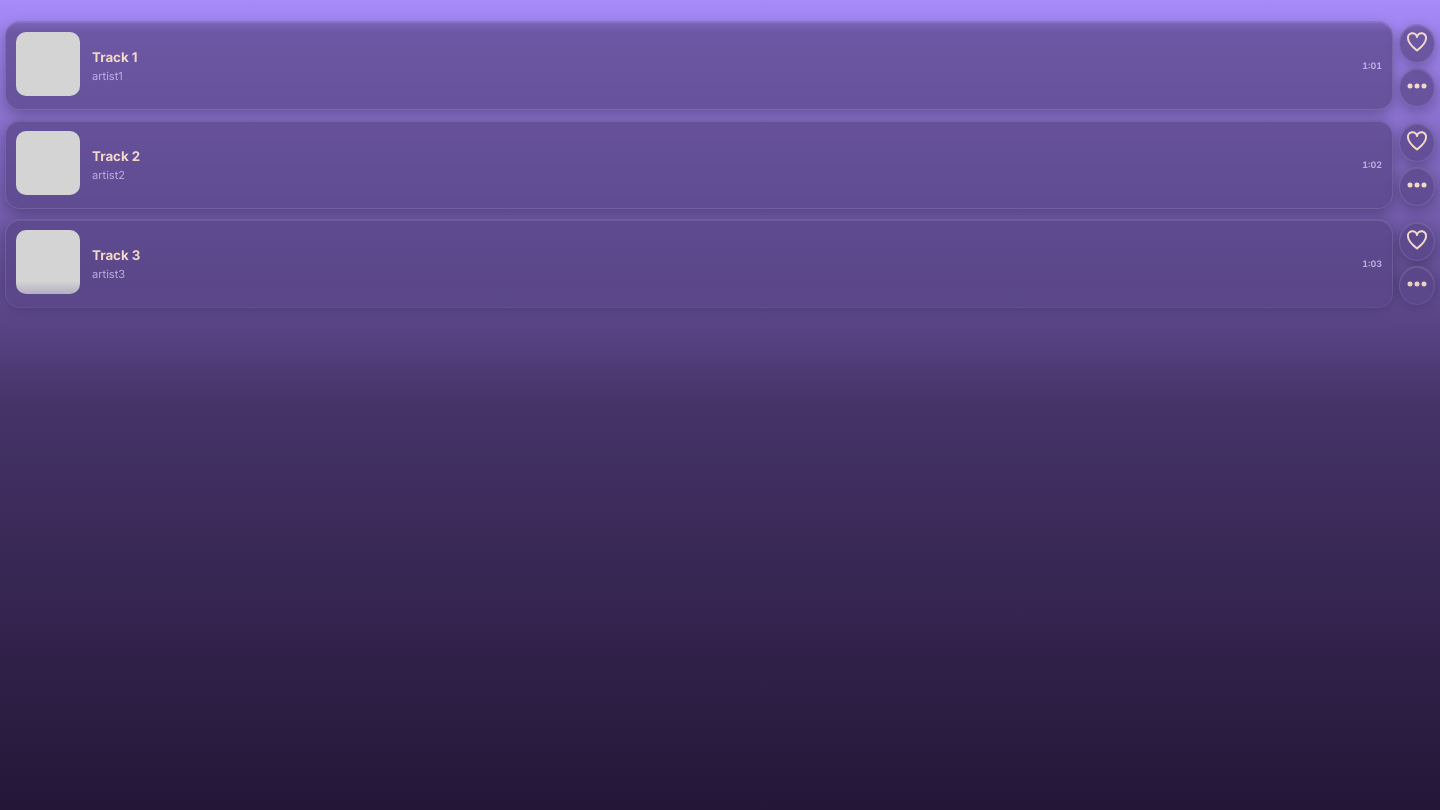
TrackSearchList › renders each result with a favorite button and a more actions menu without a remove option
This screenshot has width=1440, height=810.
expect the heading "Track 1" is shown: met, box [92,48,138,64]
expect the number of buttons named "Add to Favorites" is 3: met, box [1399,24,1435,63]; [1399,123,1435,162]; [1399,222,1435,261]
Click the button named "More actions for Track 1" at [1417, 88], box [1399,68,1435,107]
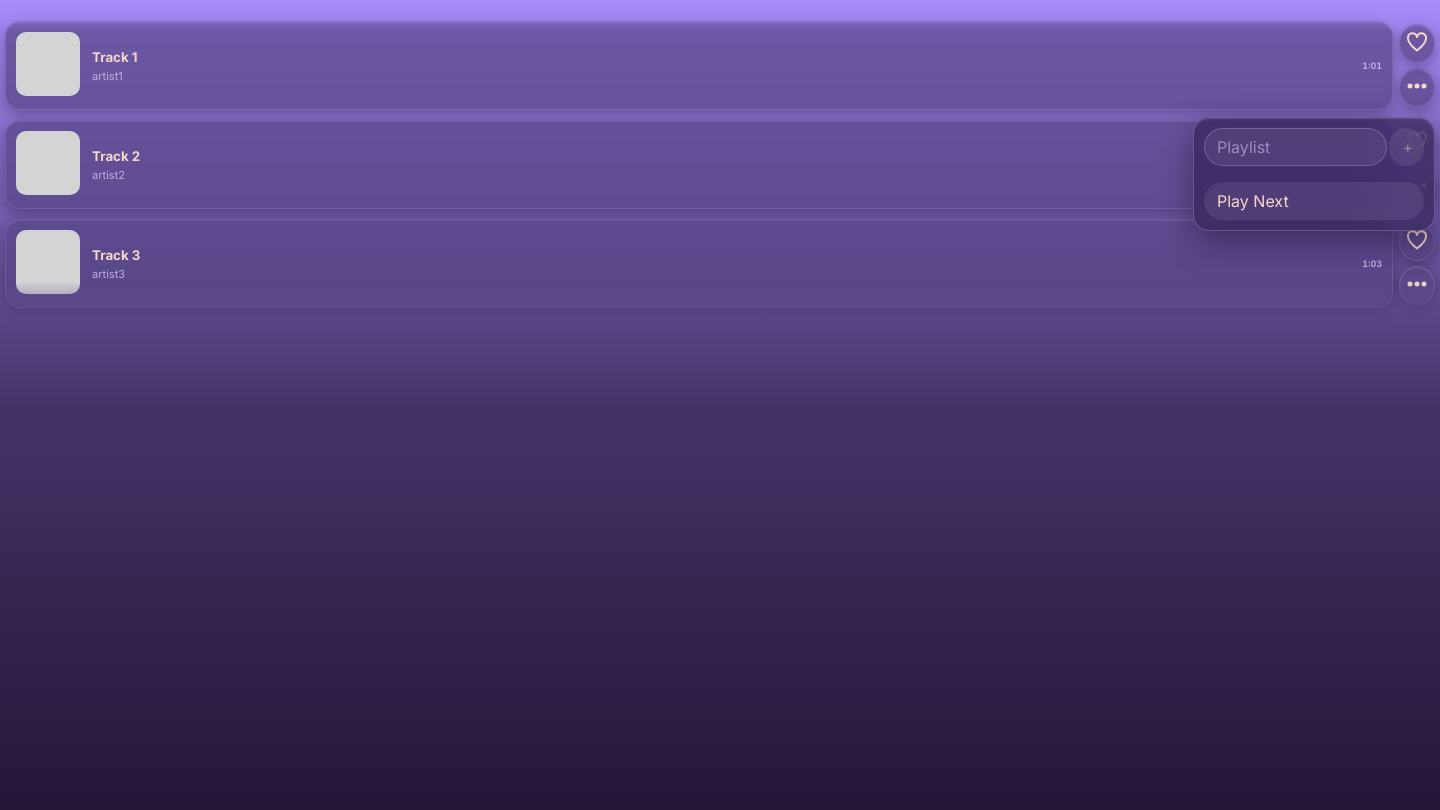
expect the field with placeholder "Playlist" is shown: met, box [1204,128,1387,166]
